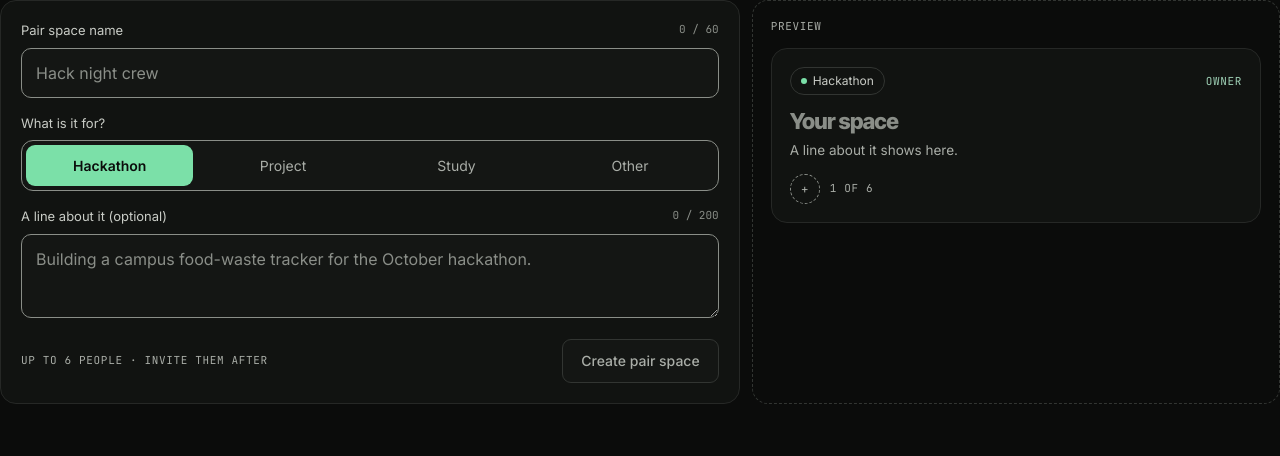
Scenario: CreateTeam › says why it could not be made
Type "One more" into the field labelled "Pair space name" at (370, 72), box top-left (21, 48), bottom-right (719, 98)
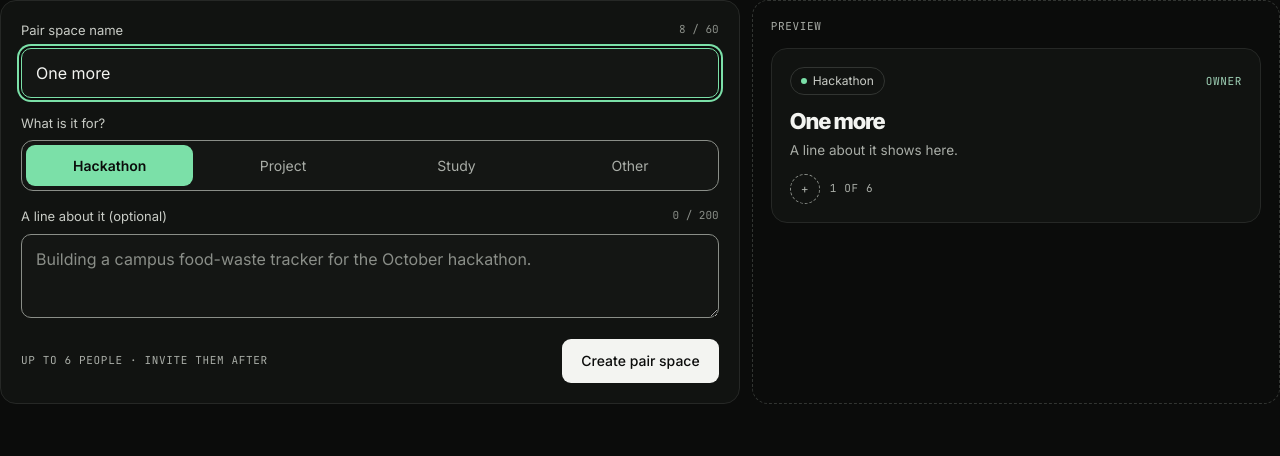
Click the button "Create pair space" at (640, 360), box top-left (562, 338), bottom-right (719, 382)
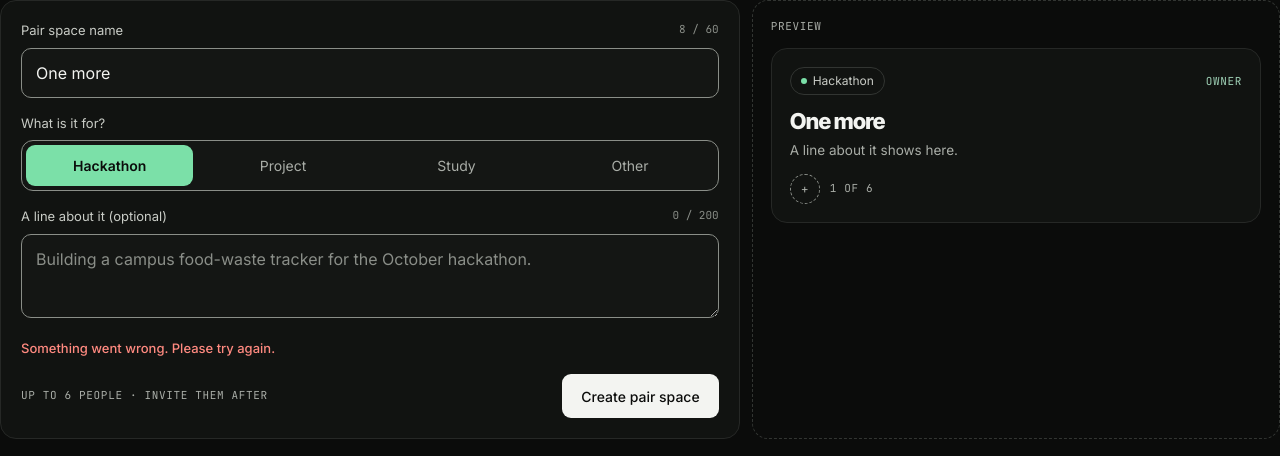
expect the message "Something went wrong. Please try again." is shown: met, box top-left (21, 340), bottom-right (275, 356)
